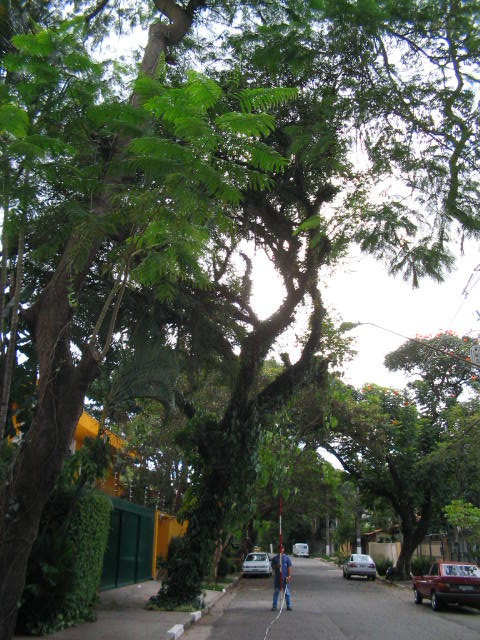stem: (146, 453, 263, 612)
stick: (273, 494, 287, 612)
tree: (121, 134, 355, 610)
